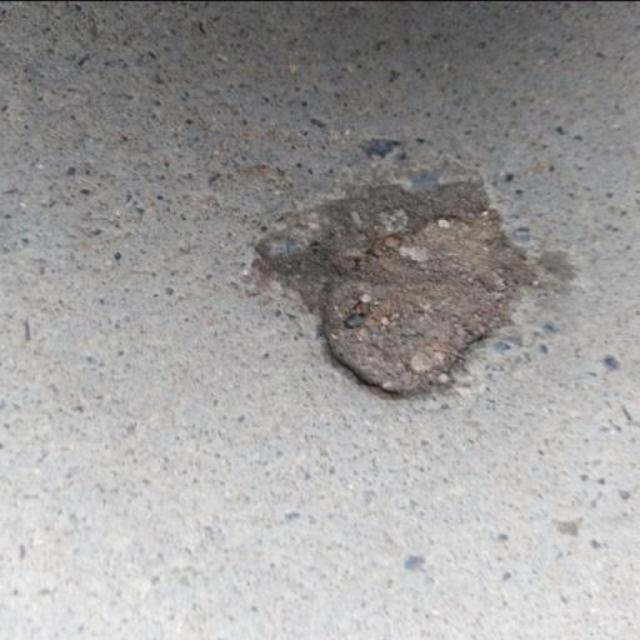D10: (242, 178, 549, 401)
